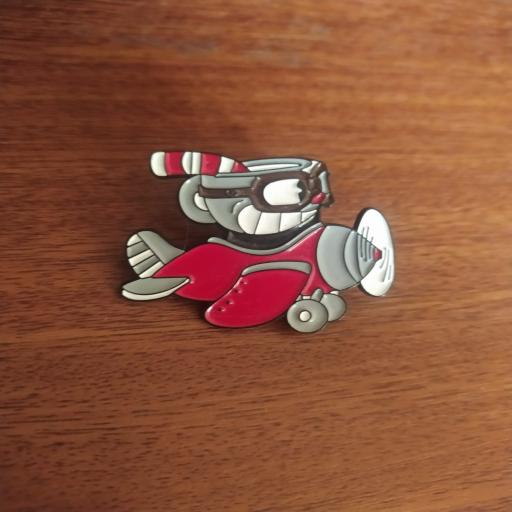Pin: (111, 141, 410, 341)
